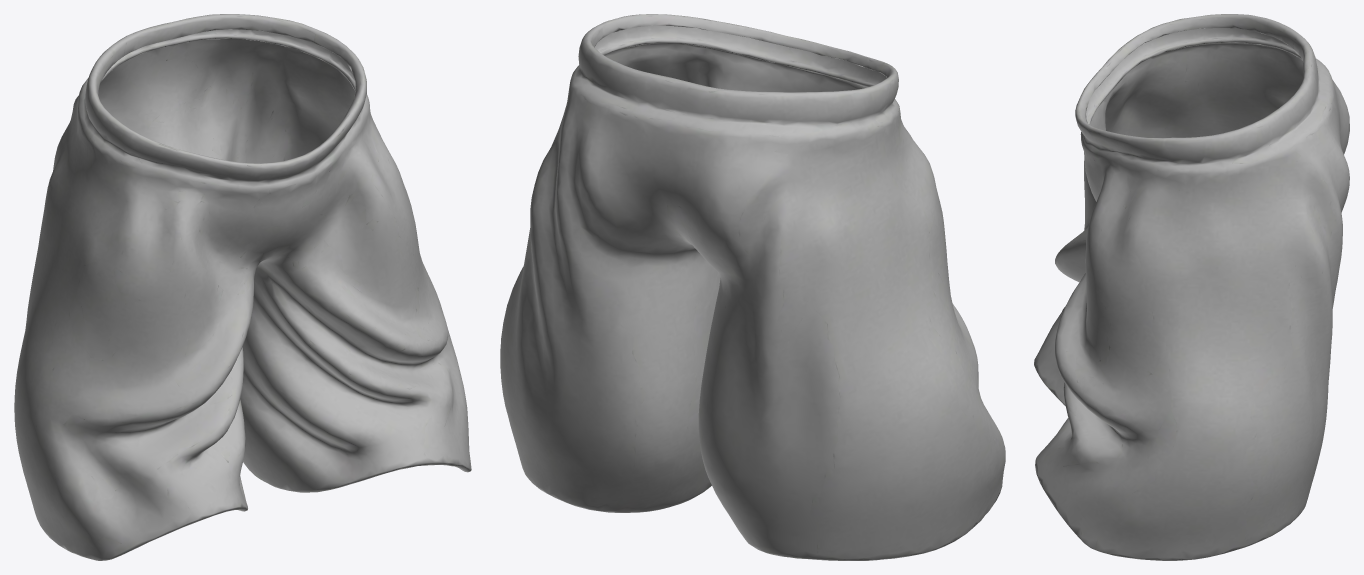
File: Hirono Pants.glb
The picture shows the model from 3 angles, left to right: view 1: azimuth 30°, elevation 25°; view 2: azimuth 150°, elevation 25°; view 3: azimuth 270°, elevation 25°; orthographic projection. The views are drawn at different scales.
Parts seen in each view (by area): view 1: sweat pants; view 2: sweat pants; view 3: sweat pants.
Part boxes in pixels (x1,y1,x2,y2): sweat pants: (14,14,471,560); sweat pants: (500,14,1005,560); sweat pants: (1034,14,1349,560).
Size of the model in its own units: 0.4047 by 0.3982 by 0.278.
Materials: 1 (1 with a texture image).
